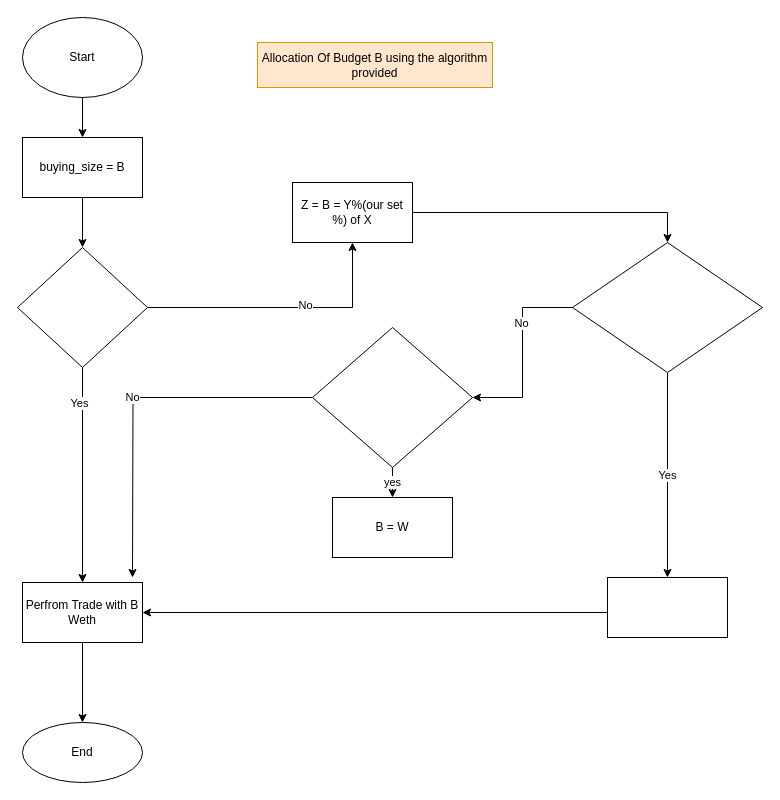
This 780x800 diagram has some shape labels left out. Each missing label, with the centre of its shape:
(trade size)Z > A (absolute maximum): pixel 667 307
B <= X (our set): pixel 82 307
B = Z = d Maximum Weth Set by us: pixel 667 607
Z < W (minimum): pixel 392 397
